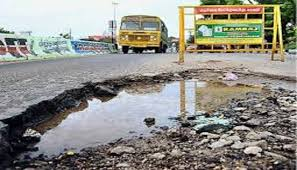potholes: (15, 60, 297, 167)
